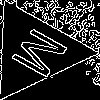M: (10, 26, 79, 86)
